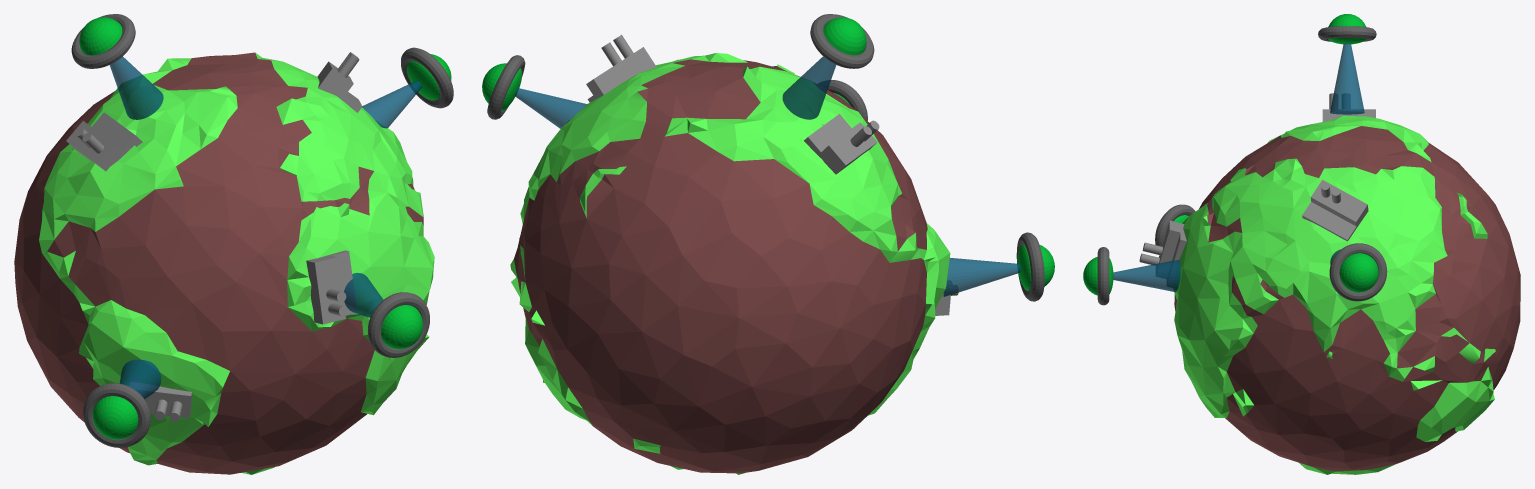
Rendered from earth4.gltf.
The picture shows the model from 3 angles, left to right: view 1: azimuth 30°, elevation 25°; view 2: azimuth 150°, elevation 25°; view 3: azimuth 270°, elevation 25°; orthographic projection. The views are drawn at different scales.
Visible parts, largest first — view 1: Icosphere001, Cube (×4), Sphere.002 (×4), Sphere.001 (×4), Sphere (×4); view 2: Icosphere001, Sphere.001 (×3), Cube (×2), Sphere.002 (×4), Sphere (×3); view 3: Icosphere001, Cube (×3), Sphere.002 (×4), Sphere.001 (×2), Sphere (×3).
Part boxes in pixels (box(x1,y1,x2,y2)): Icosphere001: box(14, 52, 434, 474); Cube (×4): box(66, 52, 362, 421); Sphere.002 (×4): box(71, 14, 453, 447); Sphere.001 (×4): box(109, 56, 421, 399); Sphere (×4): box(79, 17, 451, 439); Icosphere001: box(510, 53, 950, 474); Sphere.001 (×3): box(515, 56, 1020, 296); Cube (×2): box(586, 34, 879, 174); Sphere.002 (×4): box(487, 14, 1044, 301); Sphere (×3): box(482, 17, 1054, 290); Icosphere001: box(1173, 115, 1520, 474); Cube (×3): box(1139, 93, 1375, 287); Sphere.002 (×4): box(1097, 26, 1387, 305); Sphere.001 (×2): box(1113, 43, 1364, 292); Sphere (×3): box(1083, 14, 1378, 295).
Size of the model in its own units: 12.87 by 12.48 by 12.56.
